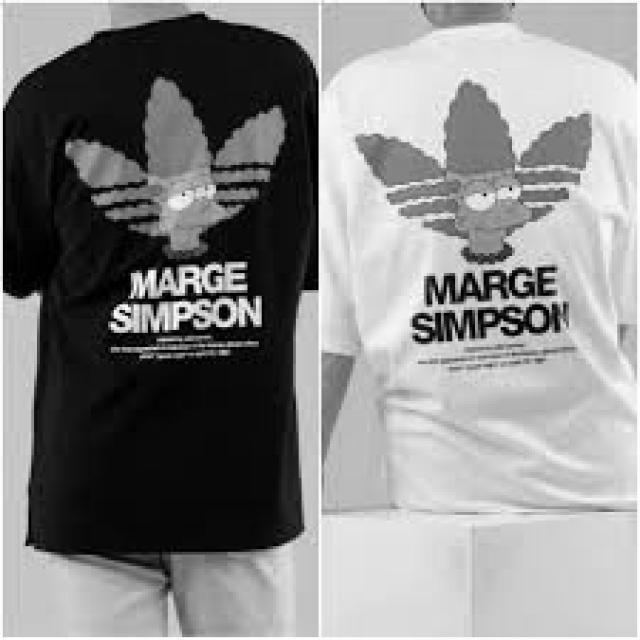Adidas: (353, 66, 604, 268), (40, 71, 290, 258)
